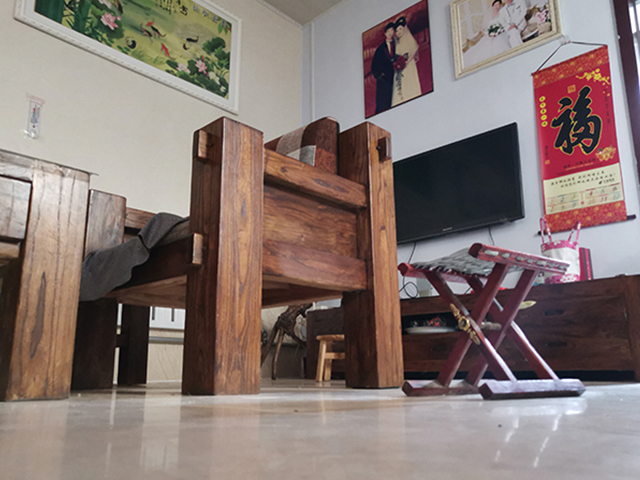cabinet: (303, 271, 640, 385)
stool: (71, 115, 406, 398), (396, 241, 588, 401)
table: (1, 147, 103, 404)
